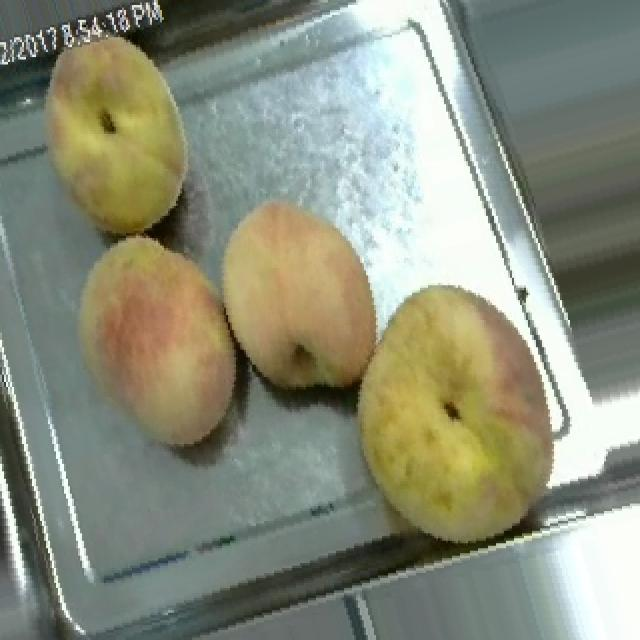Fruit: (318, 260, 596, 573), (48, 211, 266, 474), (194, 176, 406, 422), (14, 5, 216, 258)
